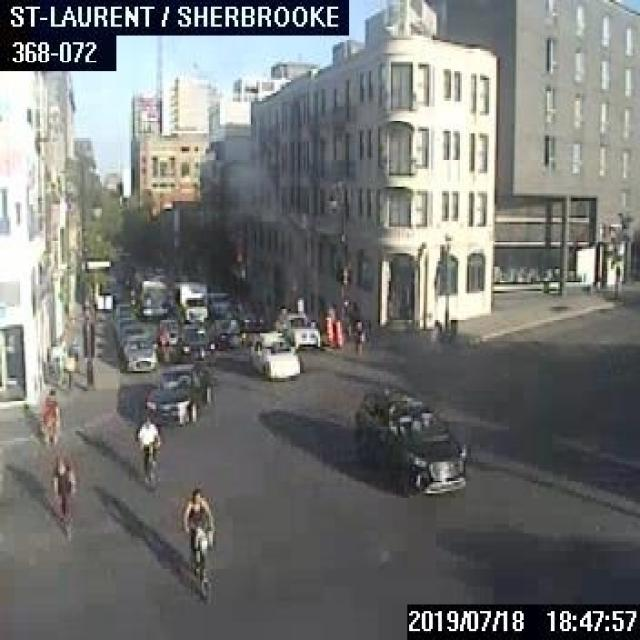construction: (330, 318, 341, 347), (324, 312, 333, 344)
cyclist: (176, 487, 216, 602), (135, 414, 161, 482)
pedestrian: (51, 456, 74, 538), (41, 386, 58, 444), (351, 314, 365, 356), (60, 346, 74, 388)
vehicle: (354, 385, 466, 491), (144, 361, 211, 425), (248, 330, 298, 378), (272, 307, 320, 346), (133, 278, 171, 319), (172, 279, 206, 321), (119, 332, 156, 370), (178, 322, 212, 359), (212, 315, 244, 349), (232, 300, 264, 333), (119, 324, 148, 356), (206, 291, 232, 318), (157, 318, 179, 344)
